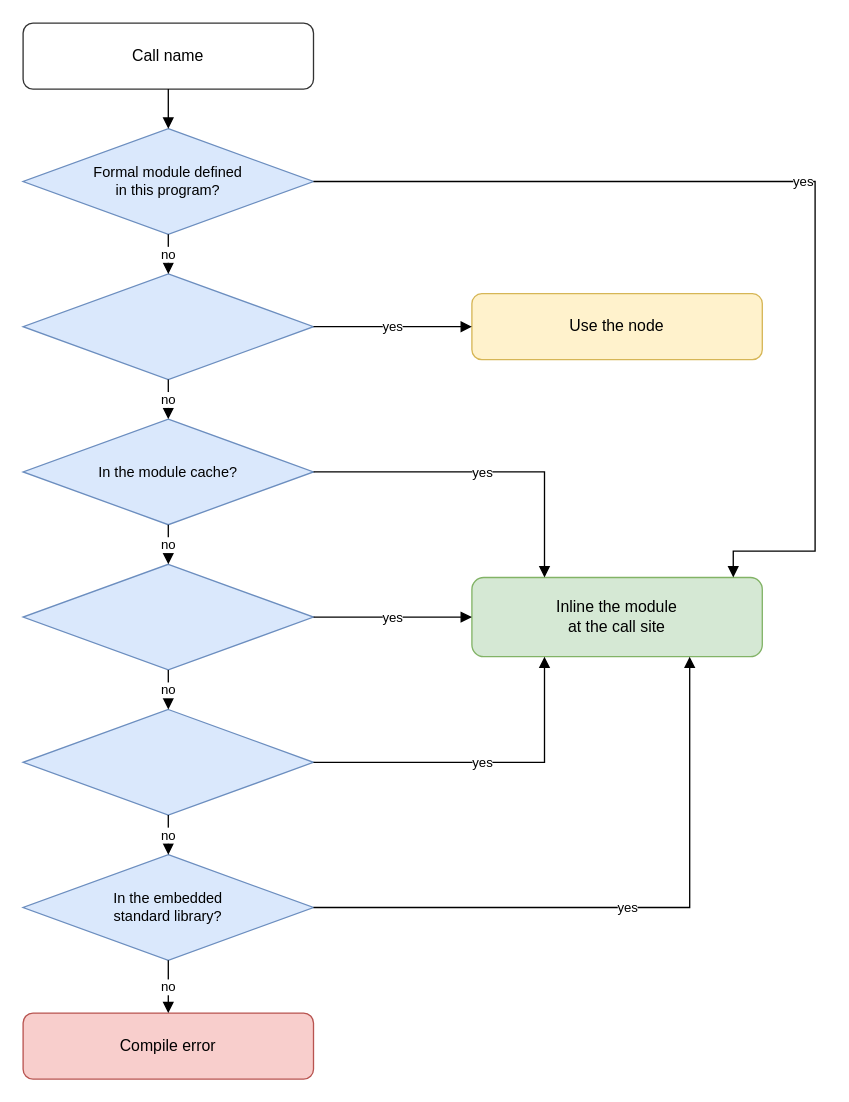
Some shapes in this 849 by 1102 pixel diagram are drawn without their labels. Each missing label, with the centre of its shape:
Found in a library directory (in caller order)?: pixel 168 761
Found in the source directory?: pixel 168 616
Native node or registered factory?: pixel 168 326
